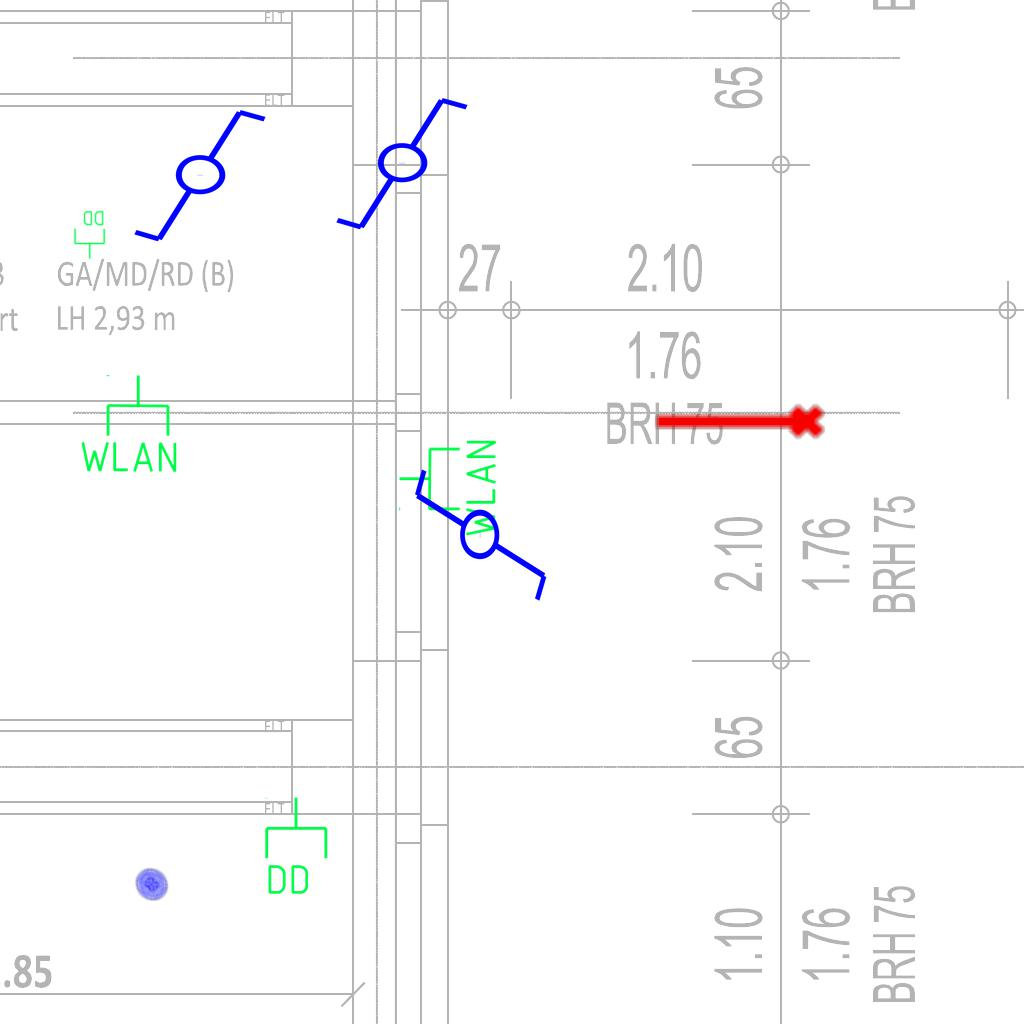ASR_Ansaugoeffnung: (651, 401, 827, 447)
Datenanschluss_zweifach: (261, 795, 330, 898), (73, 209, 107, 260)
Taster_beleuchtet: (128, 861, 175, 908)
WLAN: (76, 372, 181, 476), (396, 436, 500, 541)
Wechselschalter: (130, 105, 287, 249), (332, 93, 489, 237), (410, 448, 554, 605)
